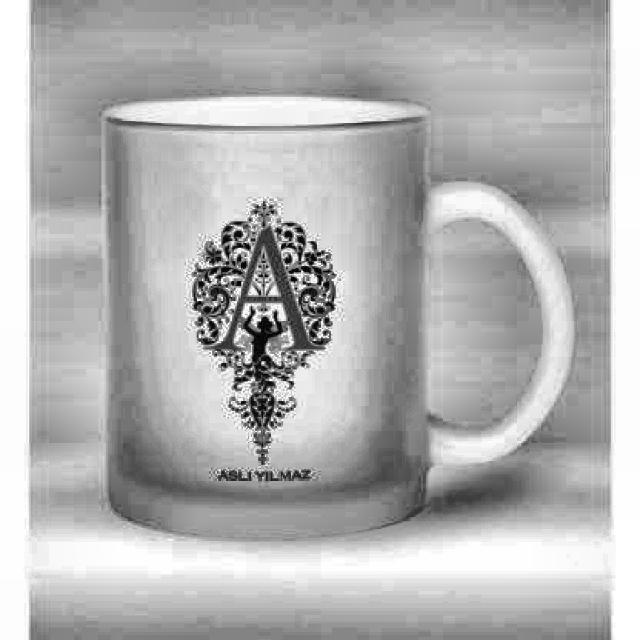Mug: (99, 94, 576, 543)
